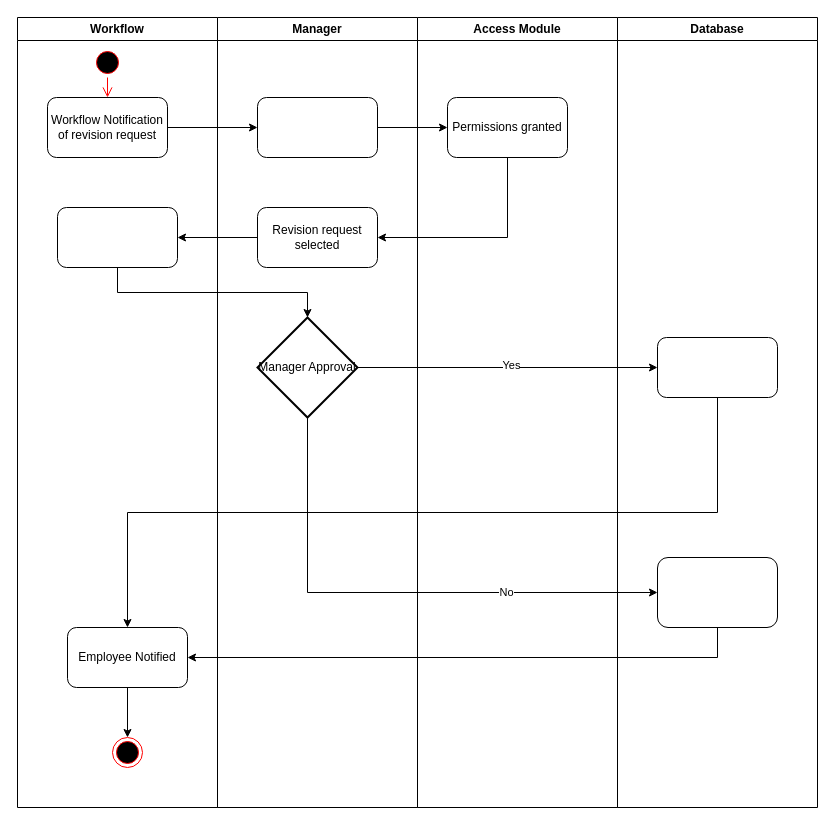
The diagram is 835 pixels wide and 825 high, and some of its shapes have lost their labels. Each missing label, with the centre of its shape:
Commit to Database: (x=717, y=367)
Mananger Login: (x=317, y=127)
Non commit to Database: (x=717, y=592)
Synopsis presented: (x=117, y=237)
